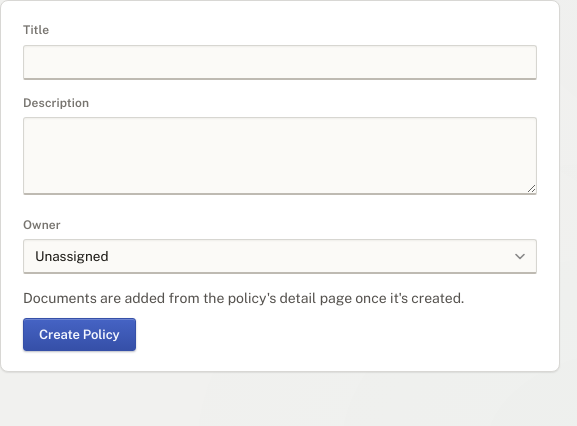
Test: PolicyForm › shows a validation error when title is empty
The width and height of the screenshot is (577, 426).
Click the button "Create Policy". click: (79, 335)
box: [23,318,136,351]
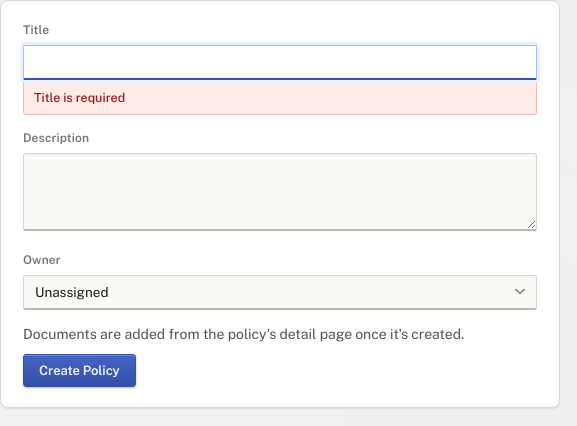
Now the message reads "Title is required", box [34,90,125,105]
